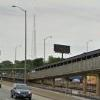Bridge: (13, 54, 98, 85)
